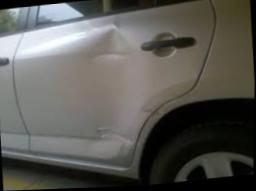Door: (79, 15, 145, 72)
